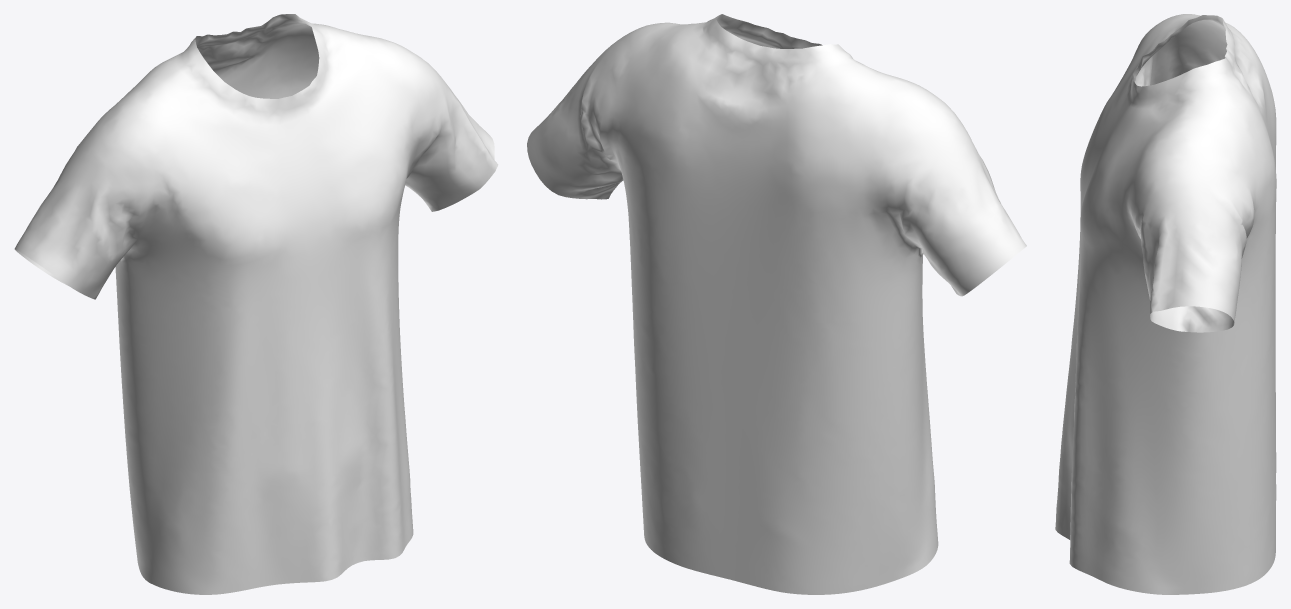
Rendered from Tshirt.glb.
The picture shows the model from 3 angles, left to right: view 1: azimuth 30°, elevation 25°; view 2: azimuth 150°, elevation 25°; view 3: azimuth 270°, elevation 25°; orthographic projection. The views are drawn at different scales.
Parts seen in each view (by area): view 1: shirt final fix; view 2: shirt final fix; view 3: shirt final fix.
Part boxes in pixels (x1=…): shirt final fix: x1=14, y1=14, x2=498, y2=594; shirt final fix: x1=527, y1=14, x2=1026, y2=594; shirt final fix: x1=1055, y1=14, x2=1276, y2=594.
Bounding box in the file's own units: 0.6701 × 0.6967 × 0.2789.
Materials: 1 (1 with a texture image).
